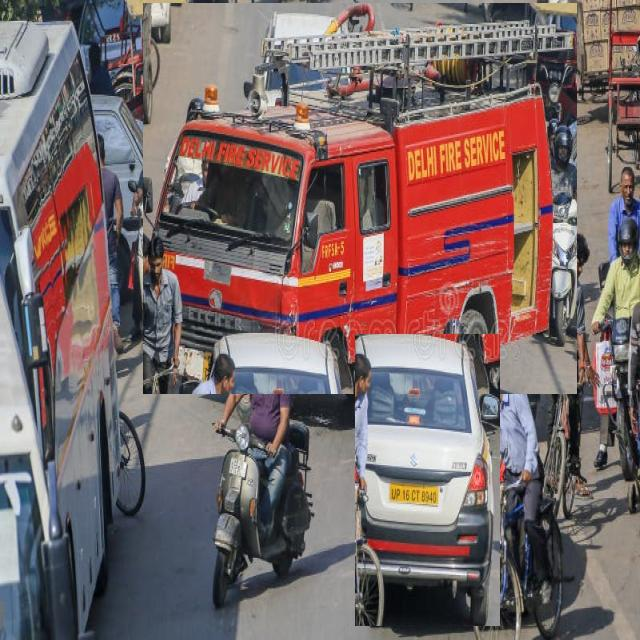bicycle: (471, 354, 562, 639), (536, 235, 599, 516)
car: (355, 335, 500, 626)
emergency: (143, 4, 576, 394)
motorcycle: (212, 320, 312, 607), (124, 122, 171, 347)
